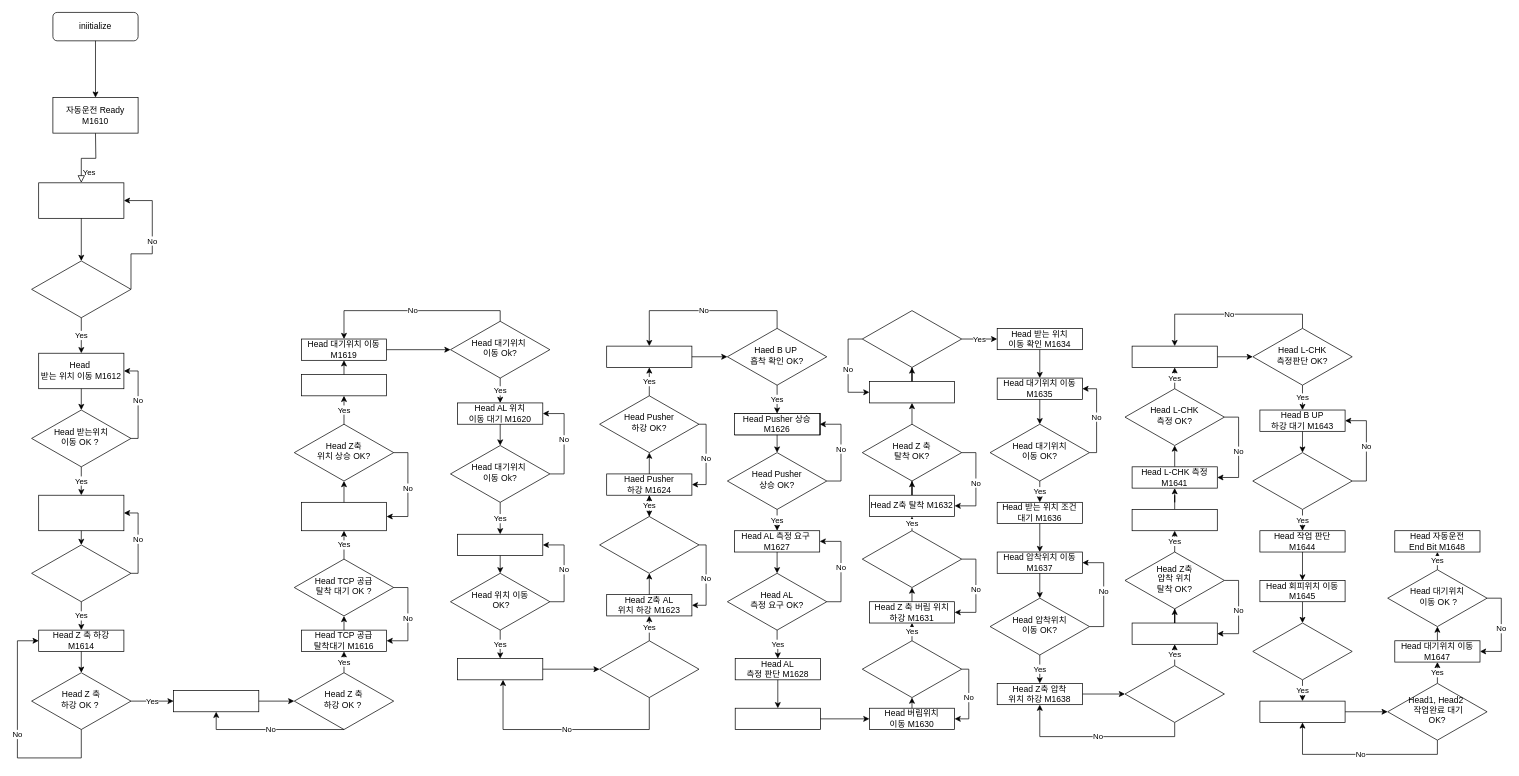
Image size: 1519x776. Some labels were removed from this diagram. Here are the shapes that lost their labels. From the top down, the centre of each, then its label:
[81,200]: Head 받는 위치 이동 대기 M1611
[81,289]: Head 받는위치 이동 대기 OK ?
[649,356]: Head B UP 흡착M1625
[912,338]: Head Z축 대기 위치 상승 OK?
[1174,356]: Head L-CHK 측정판단 M1642
[344,385]: Head AL 이동조건 확인 M1618
[912,392]: Head Z축 대기 위치 상승 M1633
[1302,480]: Head B UP 하강 대기 OK?
[81,513]: Head 받는위치 하강 대기 M1613
[344,516]: Head Z축 위치 상승 M1617
[1174,520]: Head Z축 대기 위치 상승 M1640
[500,545]: Head AL 위치 이동 M1621
[649,544]: Head Z축 AL 위치하강 OK?
[912,559]: Head Z축 버림 위치 하강 OK?
[81,573]: Head 받는위치 하강 대기 OK ?
[1174,633]: Head Z축 압착 위치 탈착 M1639
[1302,651]: Head 회피위치 이동 OK?
[500,669]: Head B Up 상승 대기 M1622
[649,669]: Head B UP 상승 대기 OK ?
[912,669]: Head 버림위치 이동 OK?
[216,701]: Head 받는위치 흡착 M1615
[1174,693]: Head Z축 압착 위치 하강?
[1302,711]: Head 작업완료 대기 M1646
[777,719]: Head RE-AL 위치 이동 M1629
